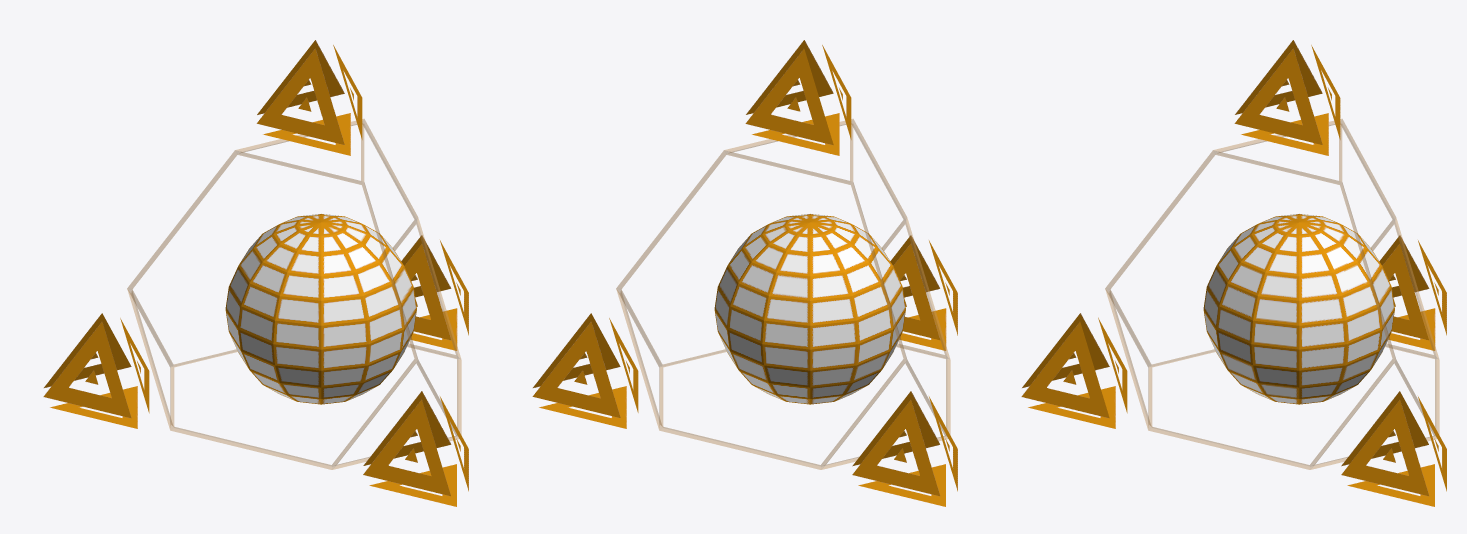
File: FAIRY_texed.fbx
3 renders of one model, left to right at view 1: azimuth 30°, elevation 25°; view 2: azimuth 150°, elevation 25°; view 3: azimuth 270°, elevation 25°, orthographic.
Parts seen in each view (by area): view 1: 球, GD_mesh.001, GD_mesh.000; view 2: 球, GD_mesh.001, GD_mesh.000; view 3: 球, GD_mesh.001, GD_mesh.000.
Boxes of the visible parts, left/top/right/bottom form: 球: left=225, top=214, right=416, bottom=404; GD_mesh.001: left=43, top=40, right=468, bottom=506; GD_mesh.000: left=127, top=119, right=461, bottom=469; 球: left=714, top=214, right=905, bottom=404; GD_mesh.001: left=532, top=40, right=957, bottom=506; GD_mesh.000: left=616, top=119, right=950, bottom=469; 球: left=1203, top=214, right=1394, bottom=404; GD_mesh.001: left=1021, top=40, right=1446, bottom=506; GD_mesh.000: left=1105, top=119, right=1439, bottom=469.
Bounding box in the file's own units: 1.63 × 1.33 × 1.41.
3 materials, 2 textured.
